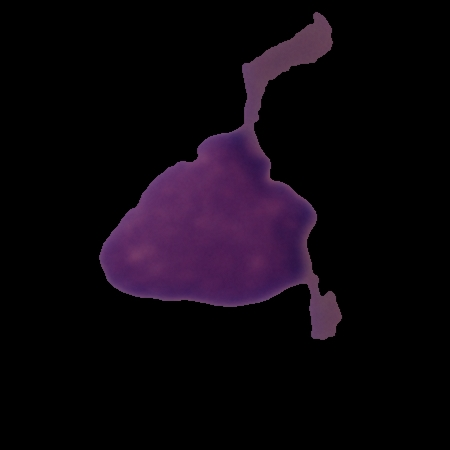HEM: (96, 7, 344, 343)
